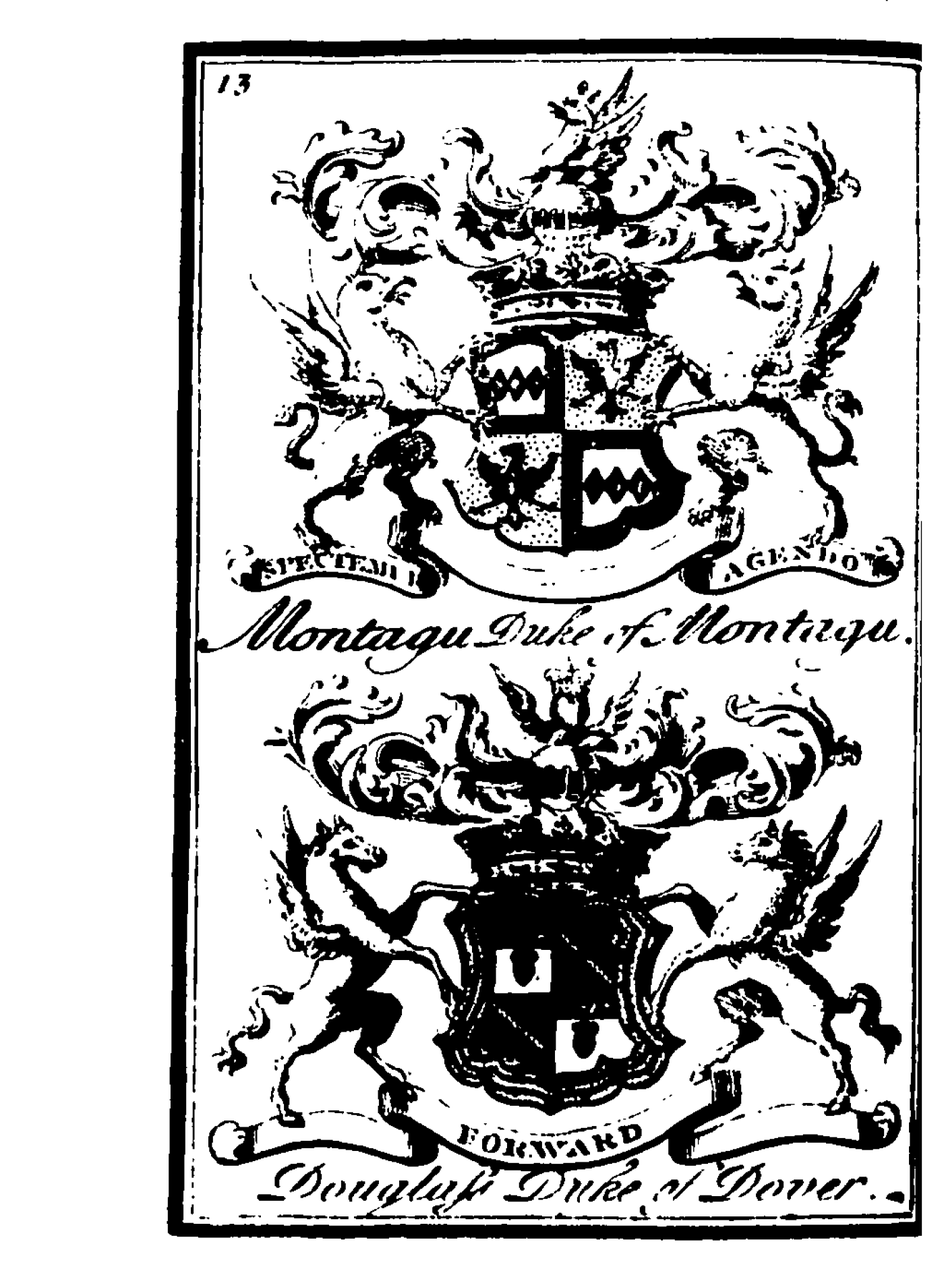coat_of_arms: (208, 64, 920, 652), (200, 652, 908, 1219)
